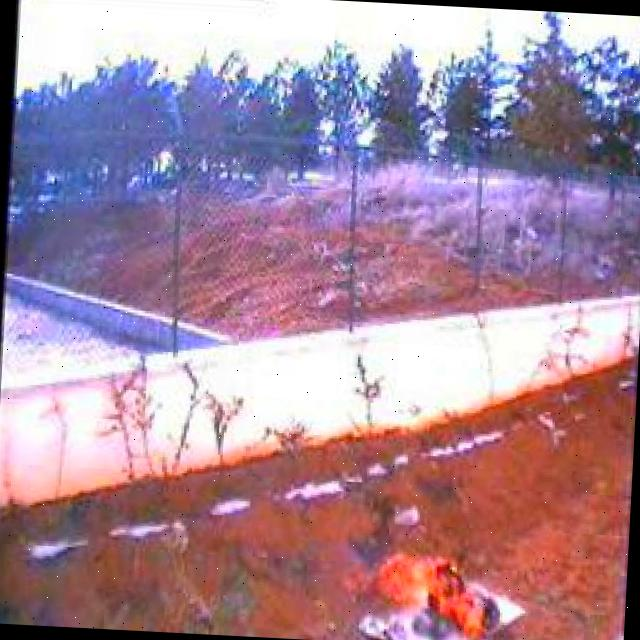fire: (343, 544, 503, 640)
